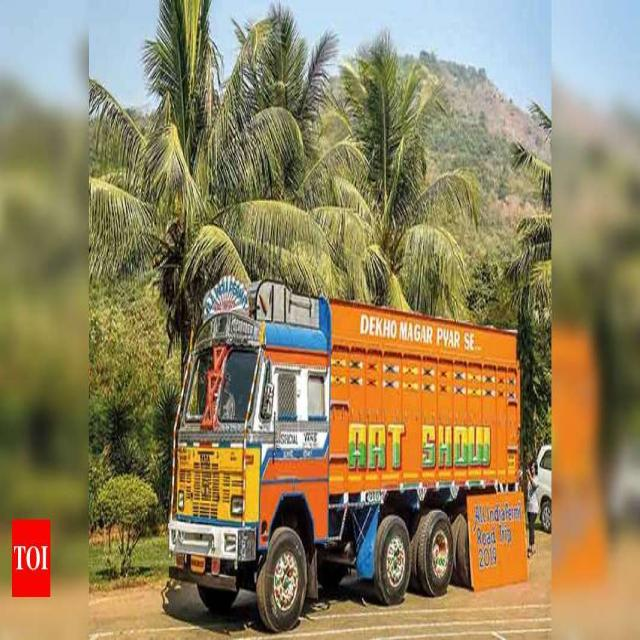truck: (169, 276, 528, 631)
